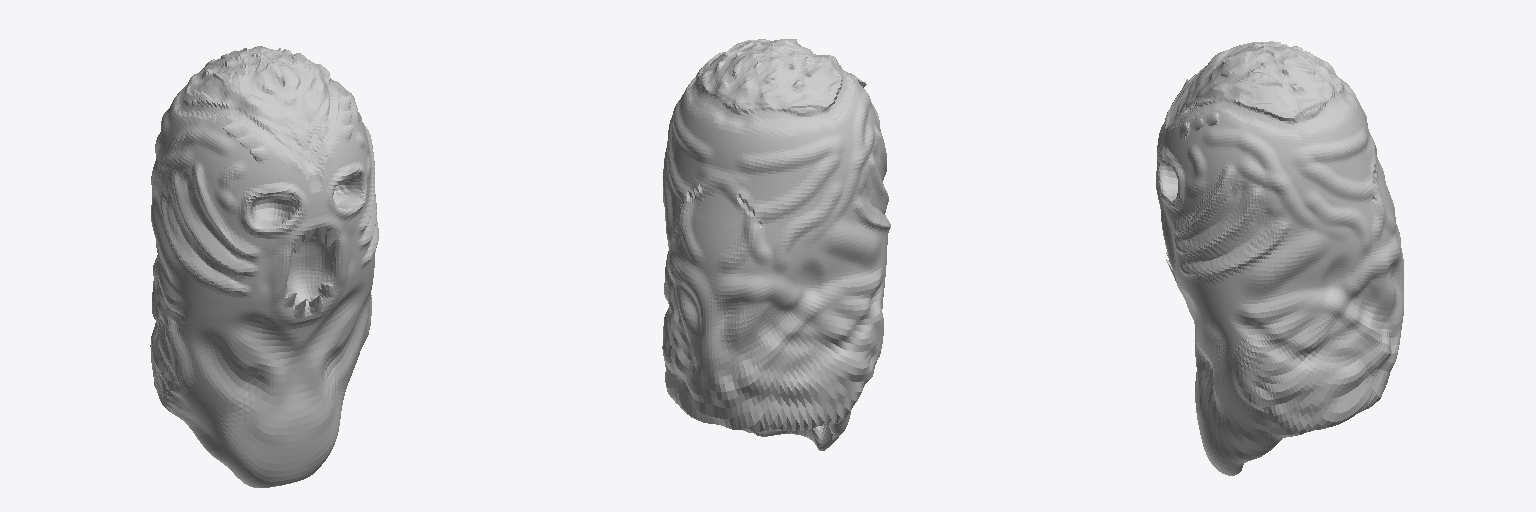
Rendered from enemy1.obj.
3 views of the same model, side by side, from view 1: azimuth 30°, elevation 25°; view 2: azimuth 150°, elevation 25°; view 3: azimuth 270°, elevation 25° (orthographic).
Visible parts, largest first — view 1: Quad_Sphere; view 2: Quad_Sphere; view 3: Quad_Sphere.
Part boxes in pixels (bbox=[...]): Quad_Sphere: bbox=[150, 46, 378, 487]; Quad_Sphere: bbox=[662, 39, 890, 450]; Quad_Sphere: bbox=[1156, 41, 1403, 475].
Bounding box in the file's own units: 2.76 × 5.42 × 2.97.